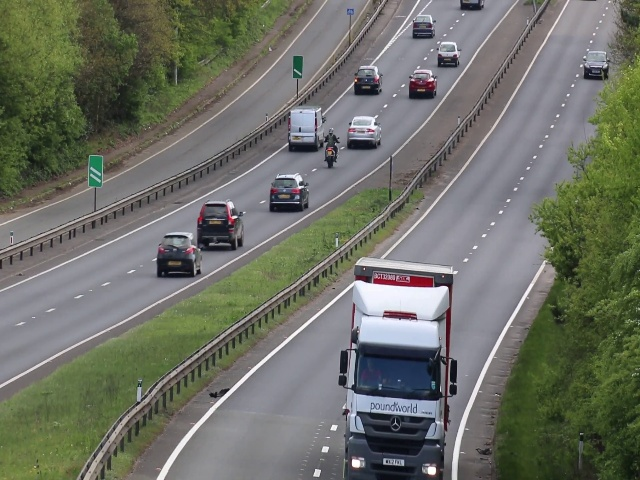car: (341, 259, 454, 480), (197, 200, 245, 249), (155, 234, 203, 279), (287, 107, 324, 152), (269, 172, 309, 210), (347, 115, 382, 148), (582, 47, 609, 80), (352, 65, 382, 94), (408, 70, 439, 97), (435, 39, 463, 68), (411, 13, 437, 38)
